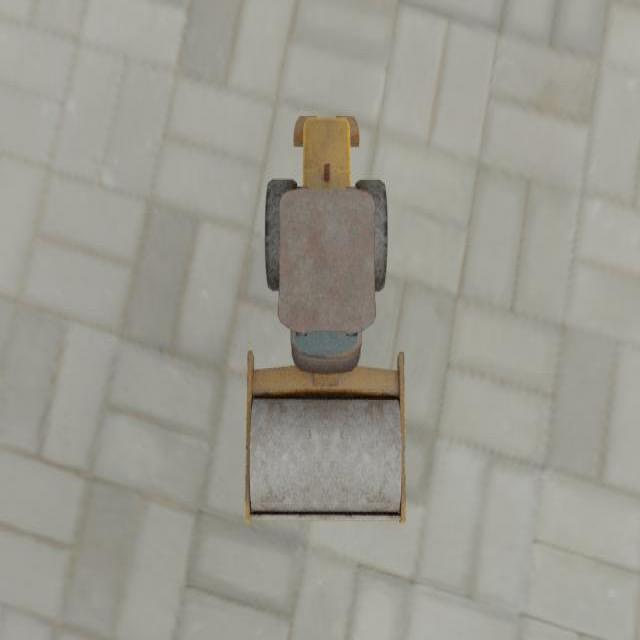Roller: (244, 115, 406, 524)
